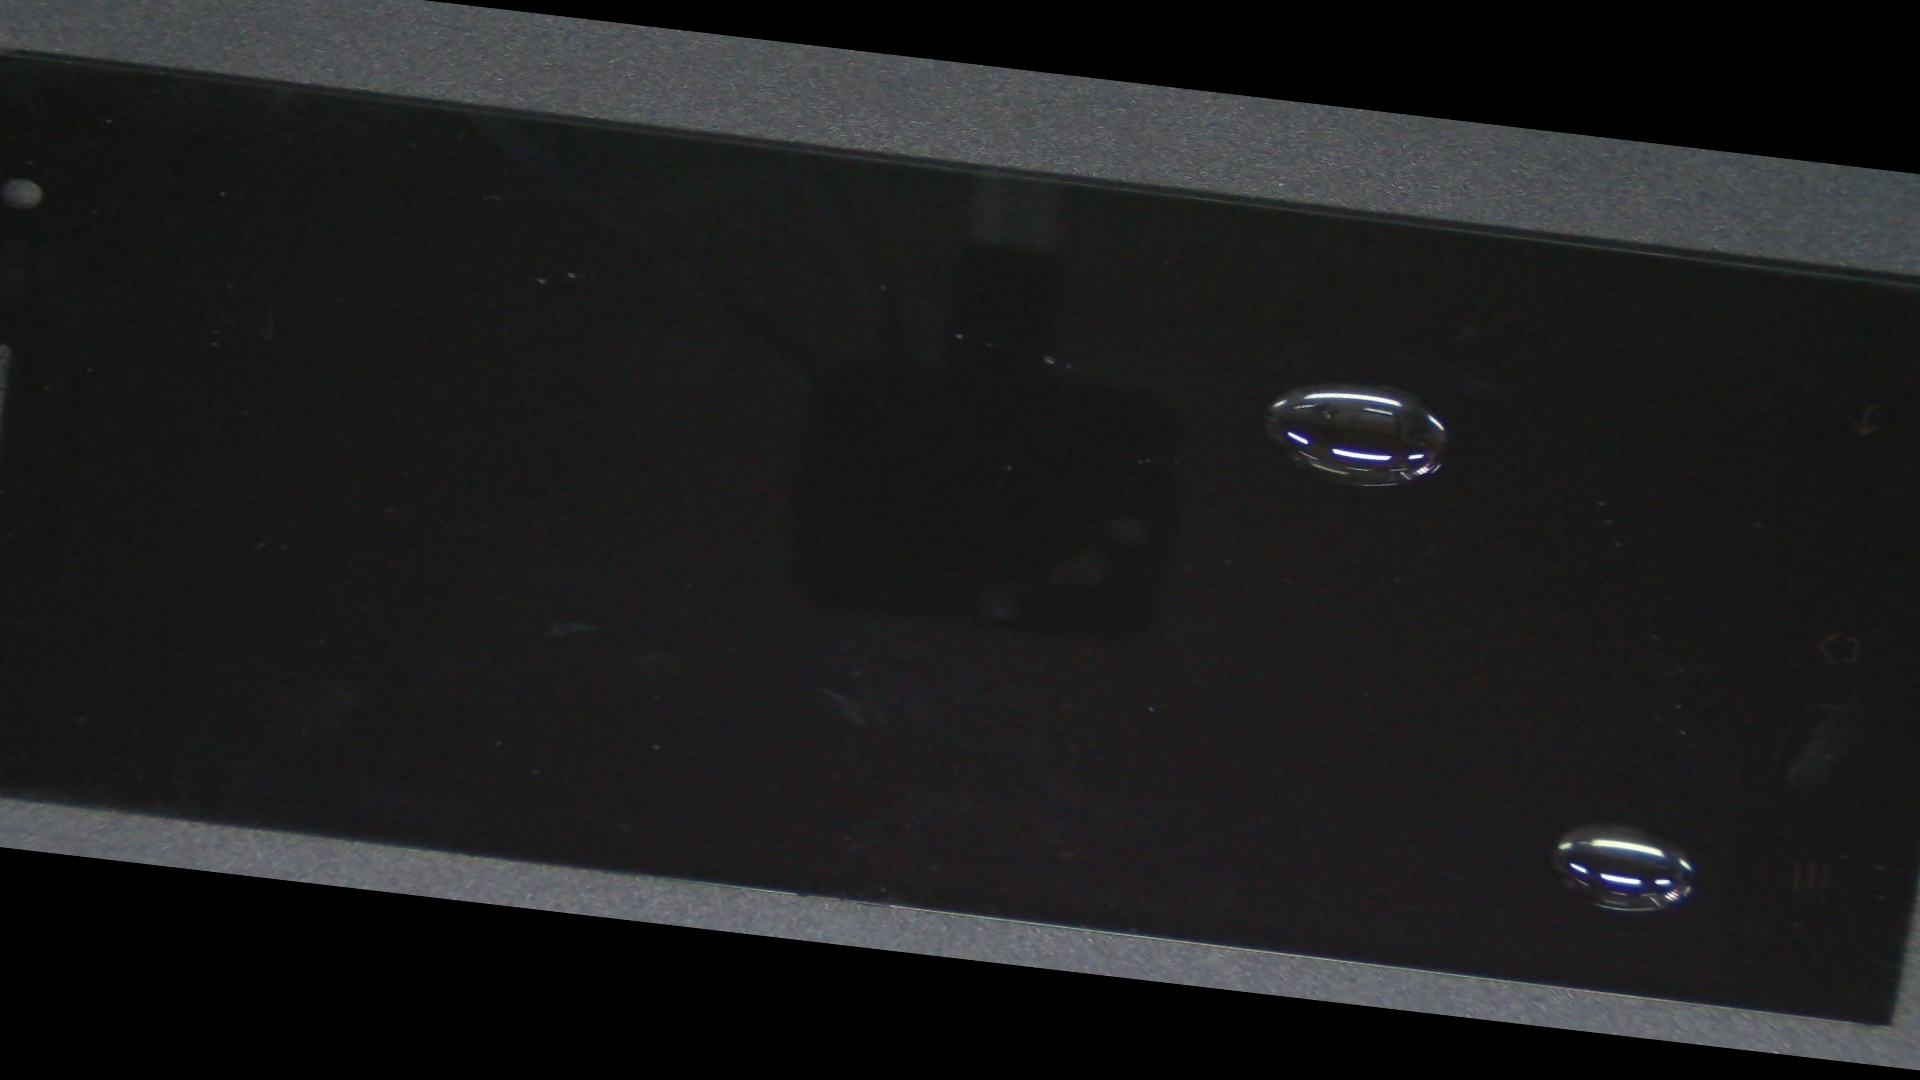oil: (687, 381, 1920, 1076), (600, 161, 1920, 597)
